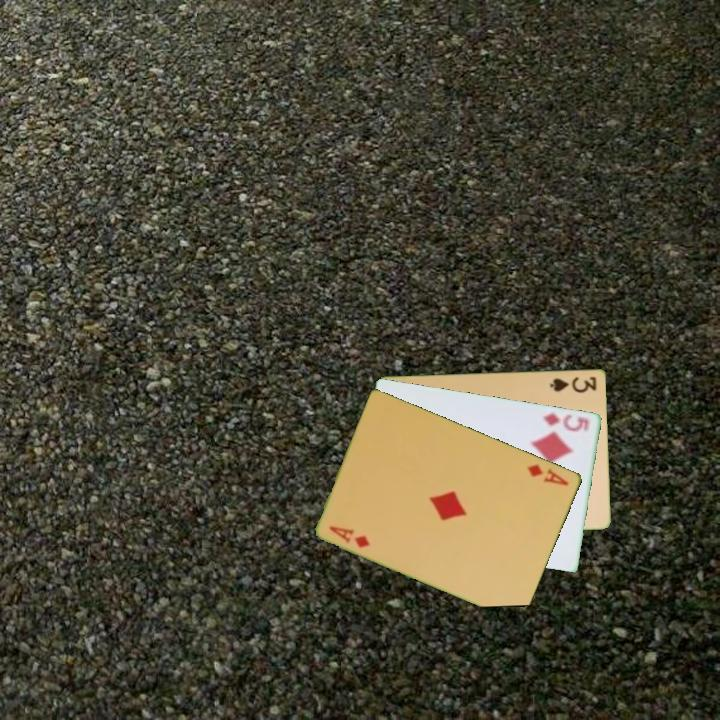3s: (546, 373, 599, 395)
5d: (540, 408, 592, 434)
Ad: (524, 460, 572, 489), (326, 522, 373, 551)
